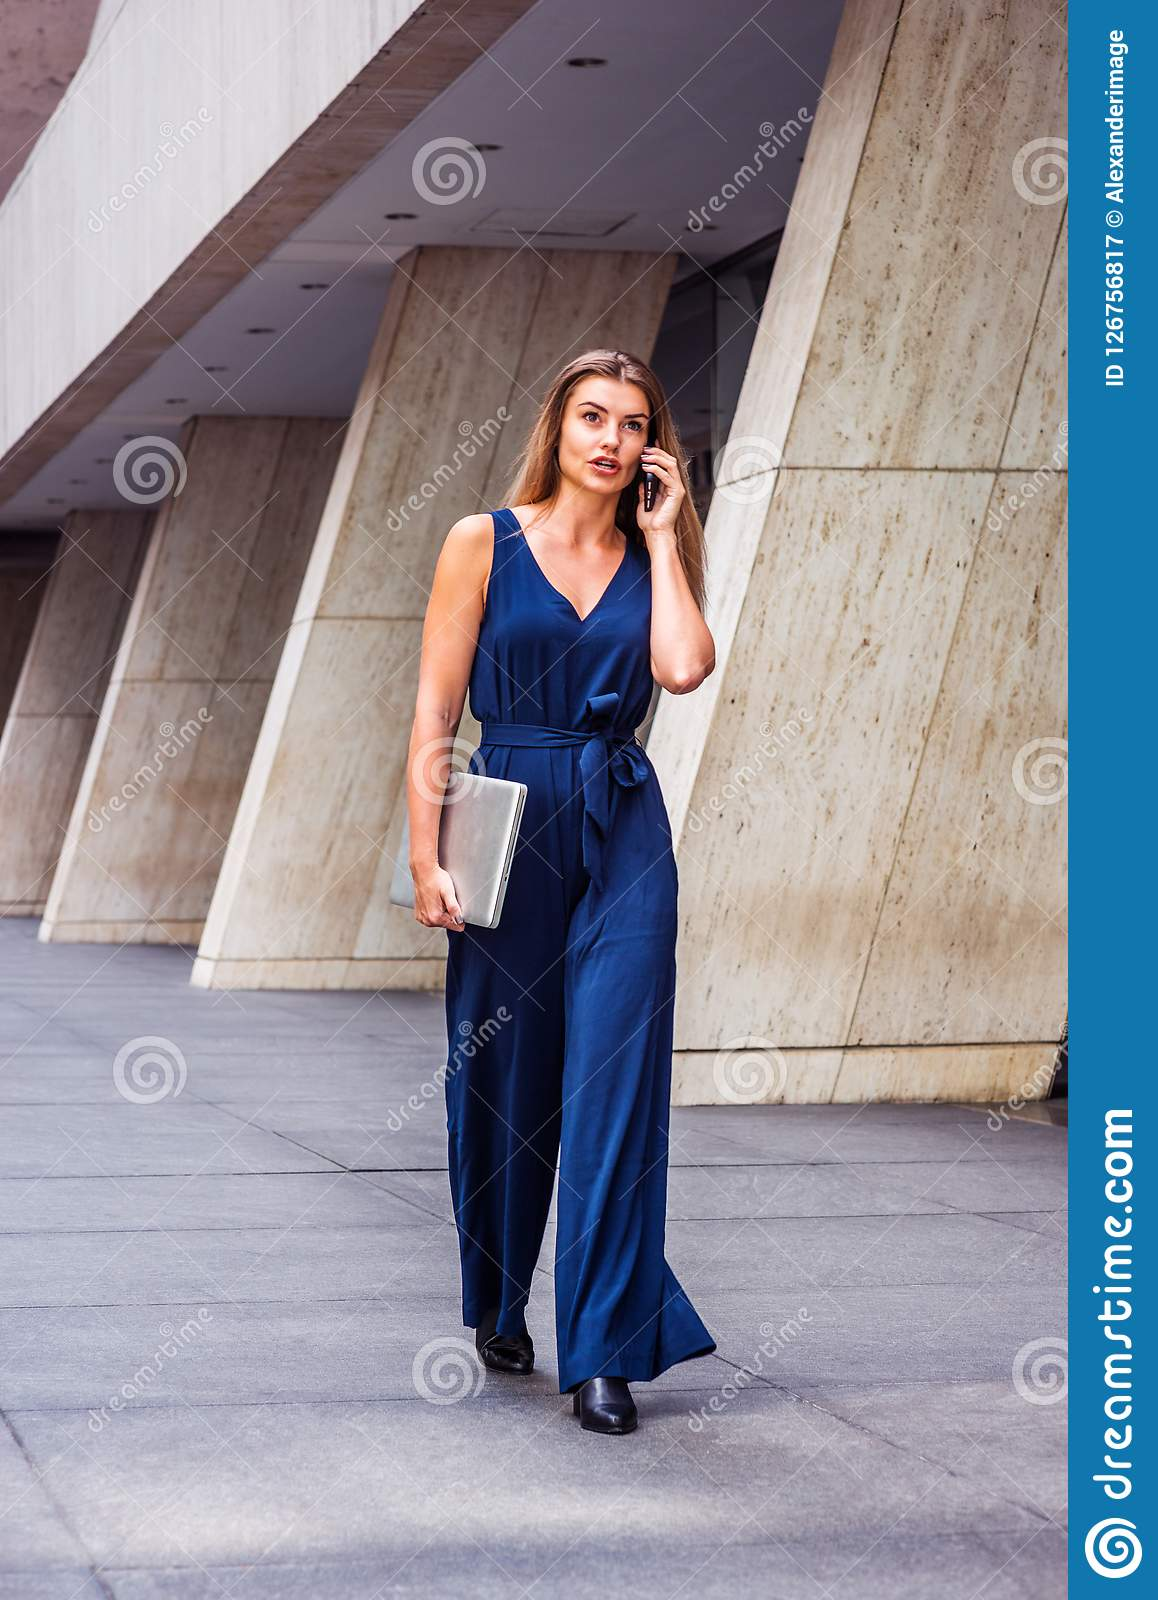phone: (640, 429, 663, 522)
talk: (577, 396, 685, 537)
